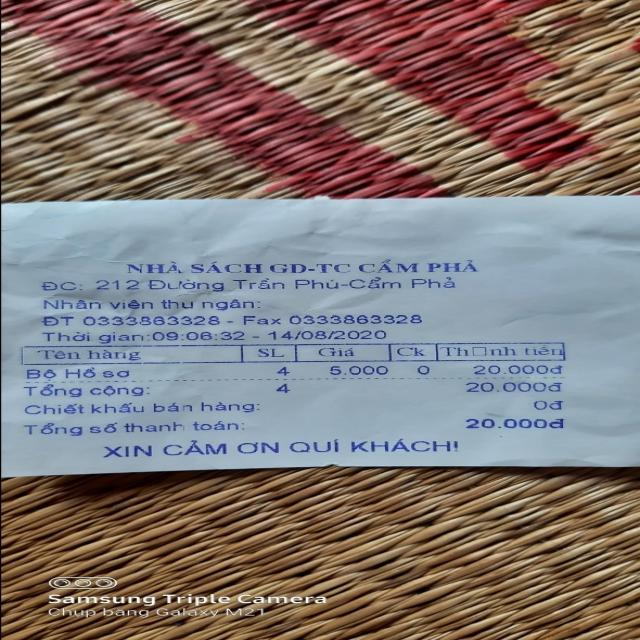Date: (267, 329, 388, 341)
Store_Name: (123, 259, 487, 274)
amount_number: (453, 415, 550, 431)
label_total: (18, 419, 238, 435)
